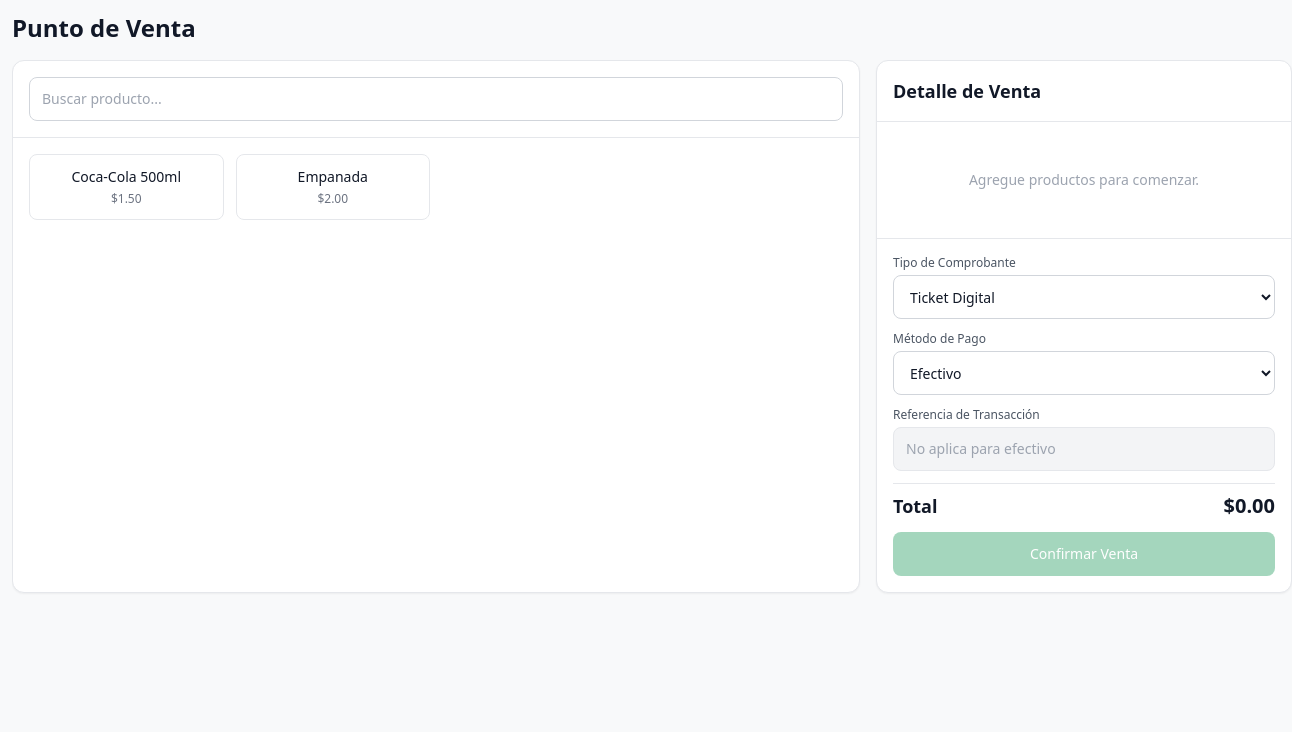
PosNormalPage — Precio Negociado UI & Payload › Subtotal recalculation (Req 5.4) › recalculates cart total when price is modified
The image size is (1292, 732).
Expected: the text "Coca-Cola 500ml" is shown, 72,167 -> 181,186
Step 1. Click the button "Coca-Cola 500ml $1.50" → [126, 187], box 29,154 -> 224,220
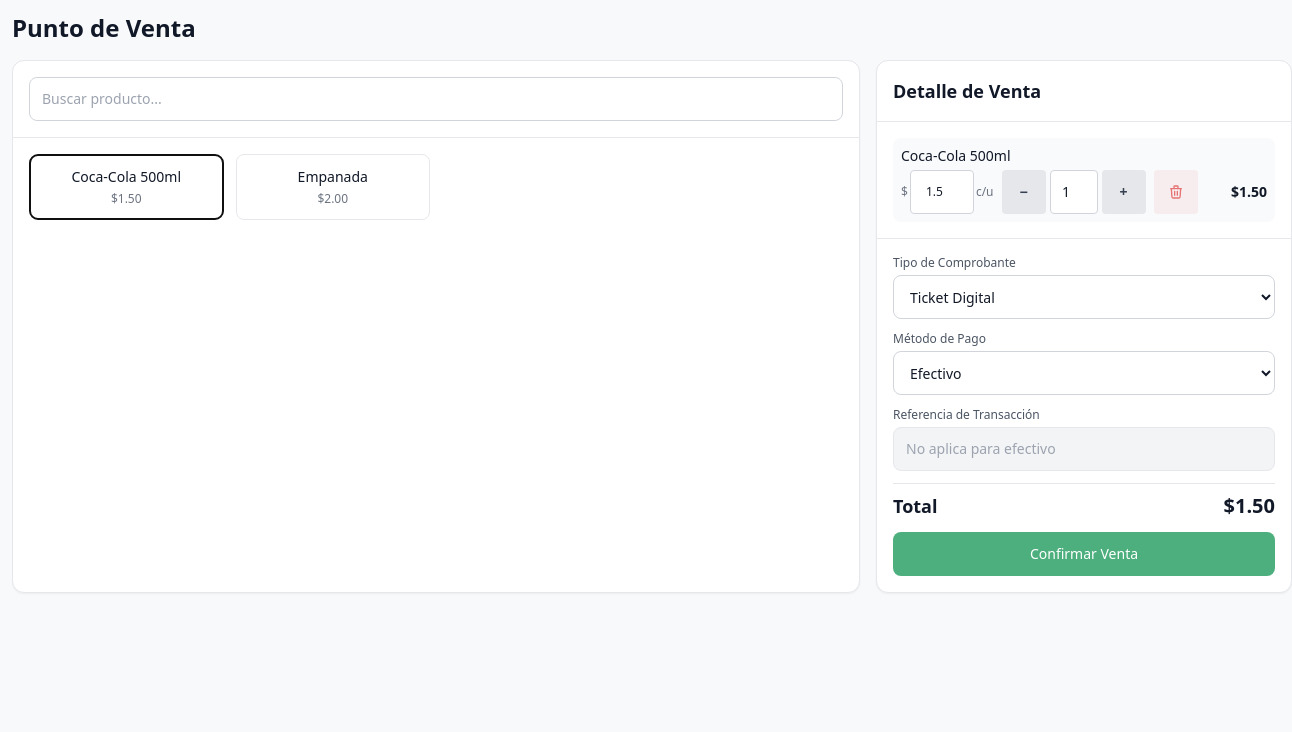
Expected: the text "$1.50" in the row of "Total" is shown, 1224,492 -> 1275,520
Step 2. Click the number field named "Precio unitario de Coca-Cola 500ml" → [942, 192], box 910,170 -> 974,214
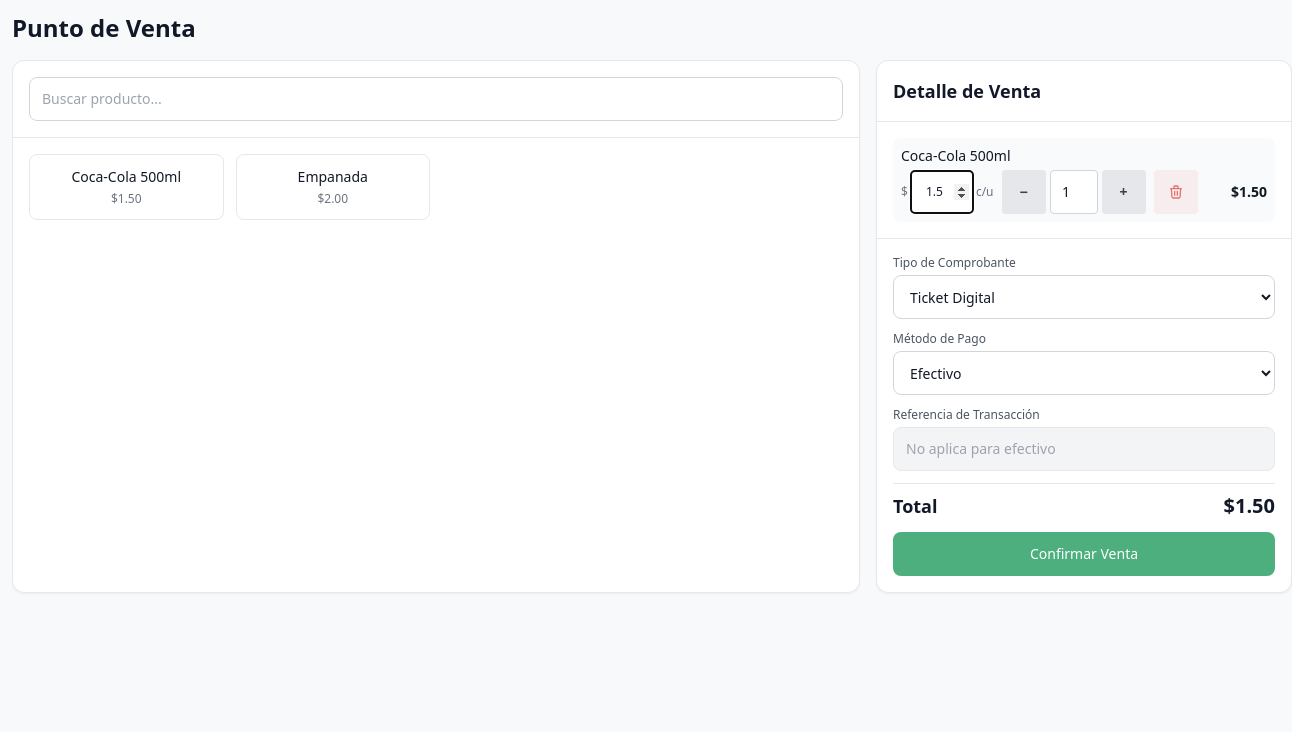
Step 3. Type keys "3"
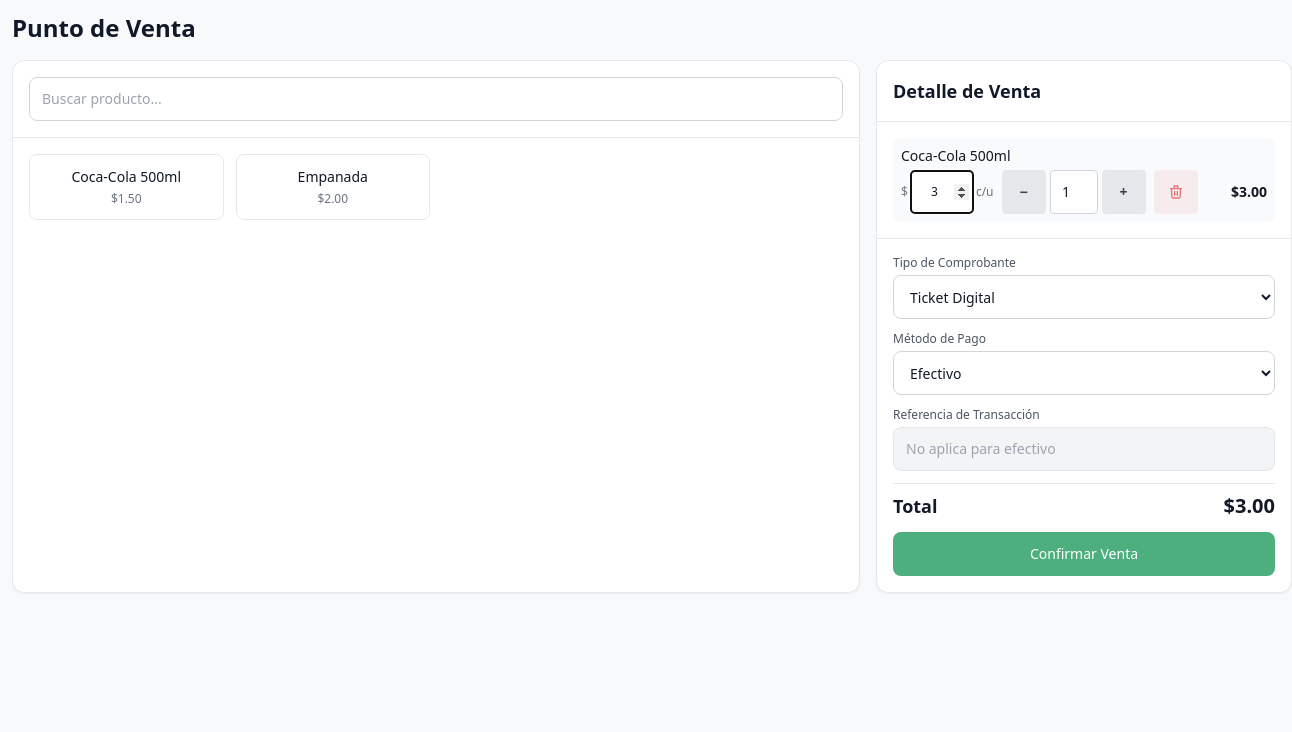
Expected: the text "$3.00" in the row of "Total" is shown, 1224,492 -> 1275,520
